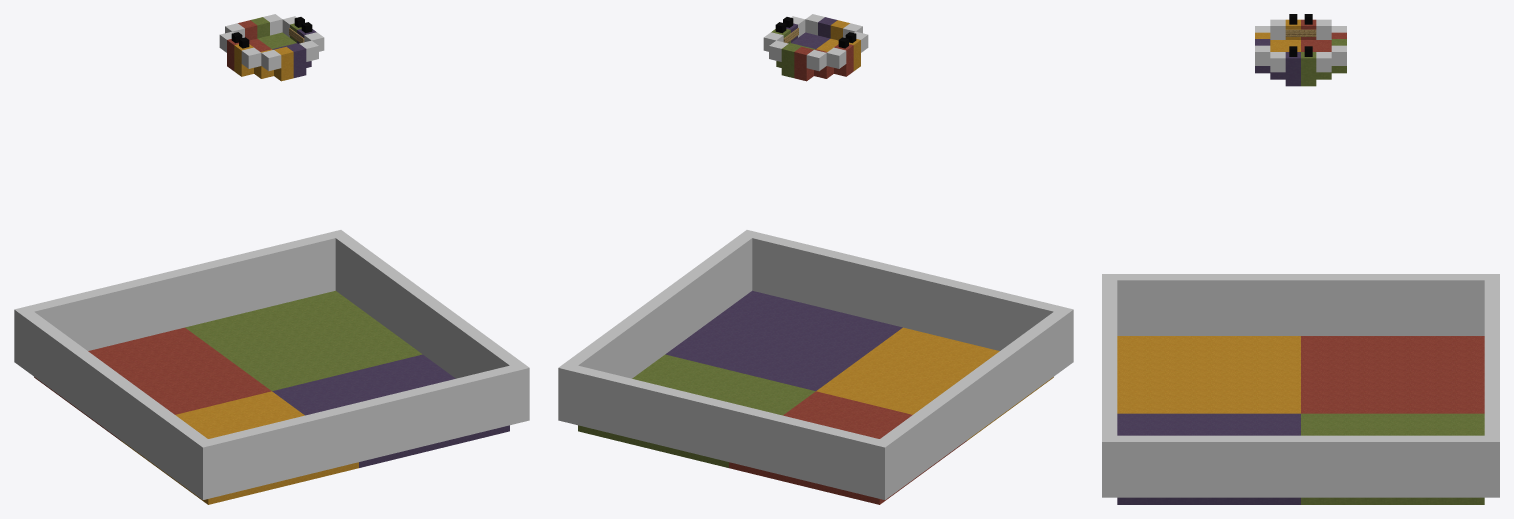
File: minecraft.obj
The picture shows the model from 3 angles, left to right: view 1: azimuth 30°, elevation 25°; view 2: azimuth 150°, elevation 25°; view 3: azimuth 270°, elevation 25°; orthographic projection. The views are drawn at different scales.
Bounding box in the file's own units: 26 × 28.52 × 26.
